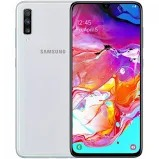samsung: (67, 1, 145, 159), (14, 1, 72, 159)
